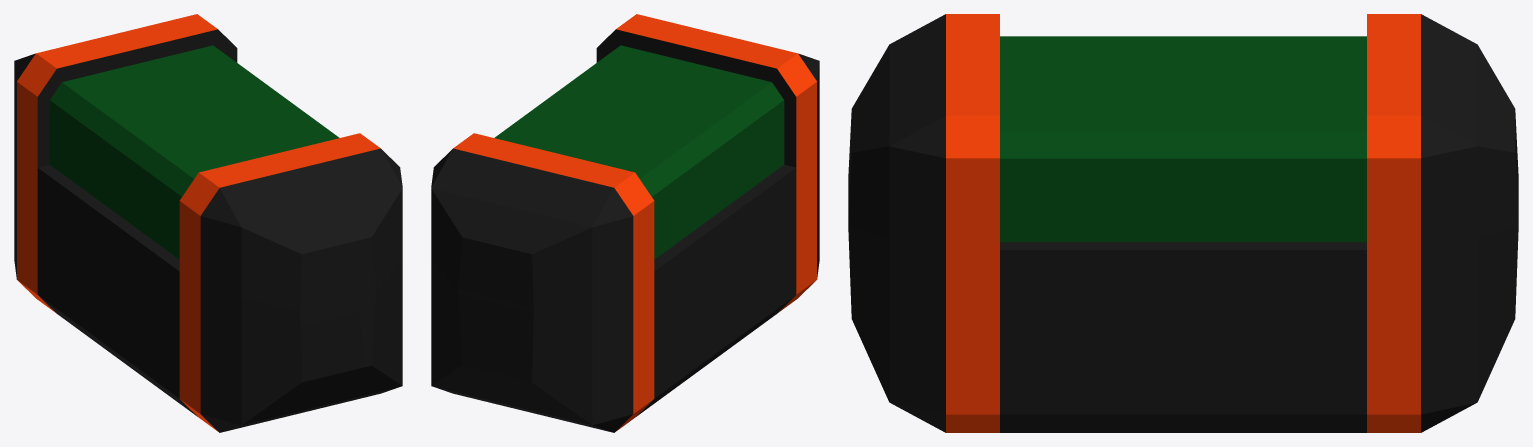
3 views of the same model, side by side, from view 1: azimuth 30°, elevation 25°; view 2: azimuth 150°, elevation 25°; view 3: azimuth 270°, elevation 25° (orthographic). The views are drawn at different scales.
Parts seen in each view (by area): view 1: Box; view 2: Box; view 3: Box.
Boxes of the visible parts, left/top/right/bottom form: Box: left=14, top=14, right=402, bottom=432; Box: left=431, top=14, right=819, bottom=432; Box: left=848, top=14, right=1518, bottom=432.
Bounding box in the file's own units: 26.5 × 31.11 × 59.59.
